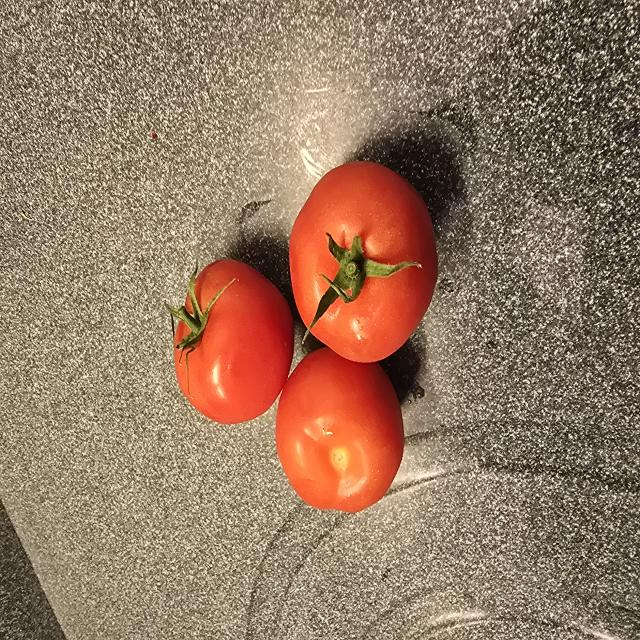Tomato: (290, 162, 437, 362), (276, 348, 404, 512), (167, 259, 294, 424)
